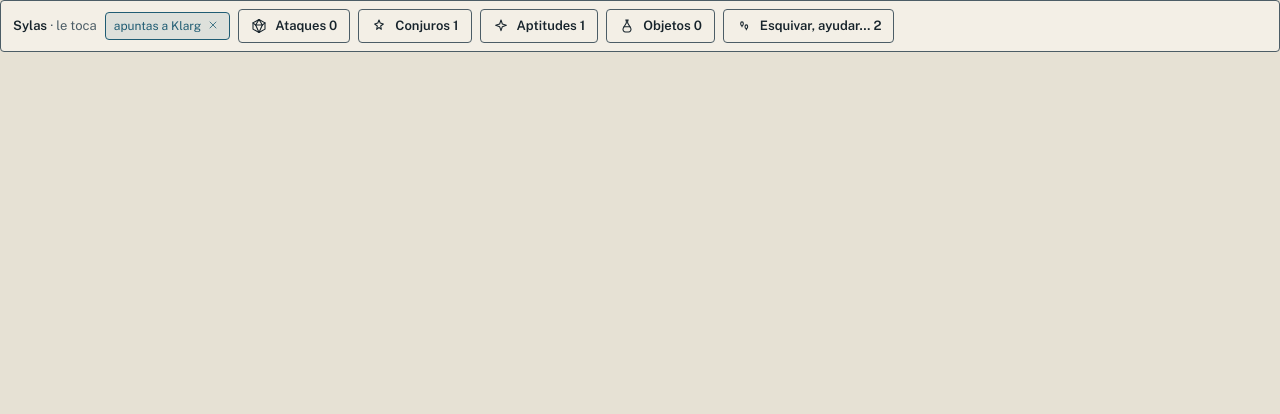
Scenario: BarraDeAcciones — Conjuros abre LanzarConjuro con el objetivo del chip › con un objetivo apuntado, la fila de Proyectil mágico ofrece «Lanzar sobre Klarg»
Click the button with aria-label "Conjuros: 1".
click(415, 26)  # box [358, 9, 472, 42]
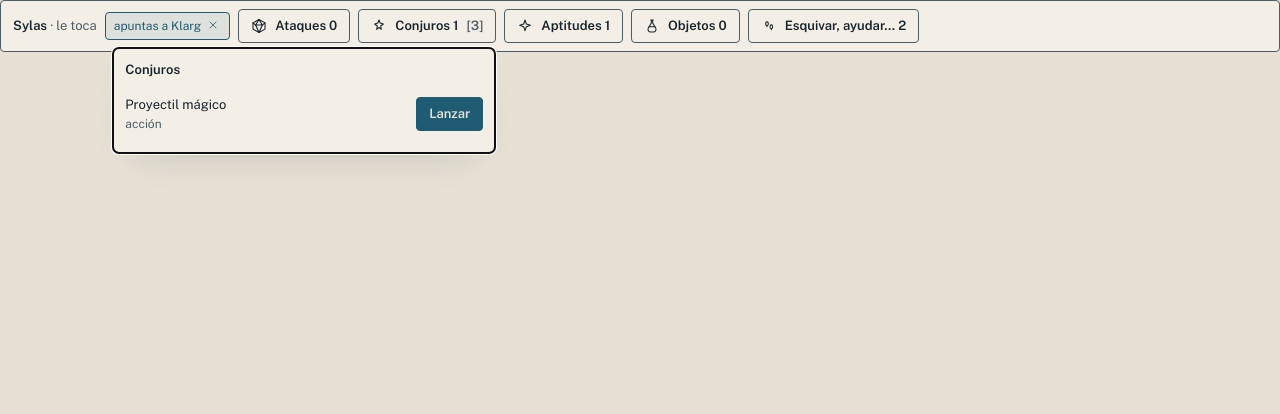
Click the button with aria-label "Lanzar Proyectil mágico".
click(450, 114)  # box [416, 97, 483, 130]
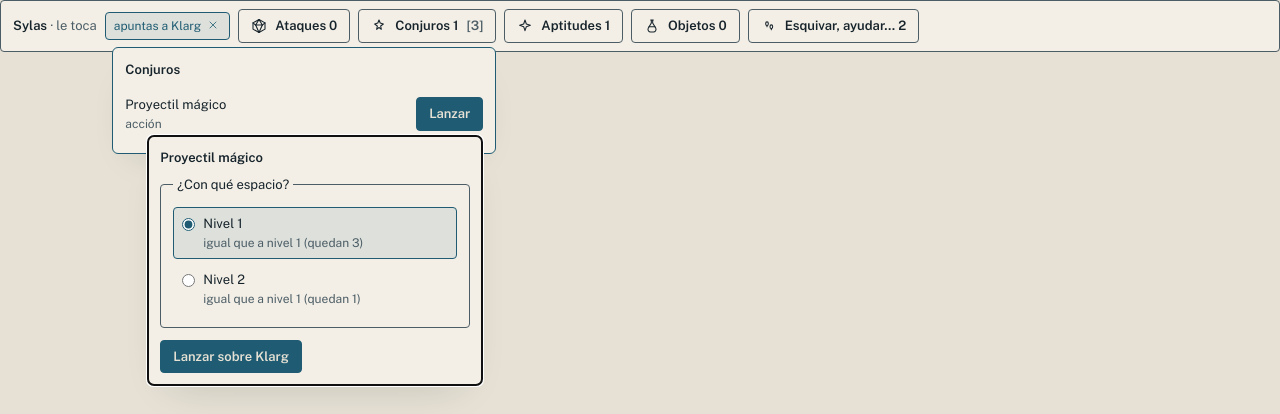
Check: the button "Lanzar sobre Klarg" is shown, box [160, 340, 302, 373]
